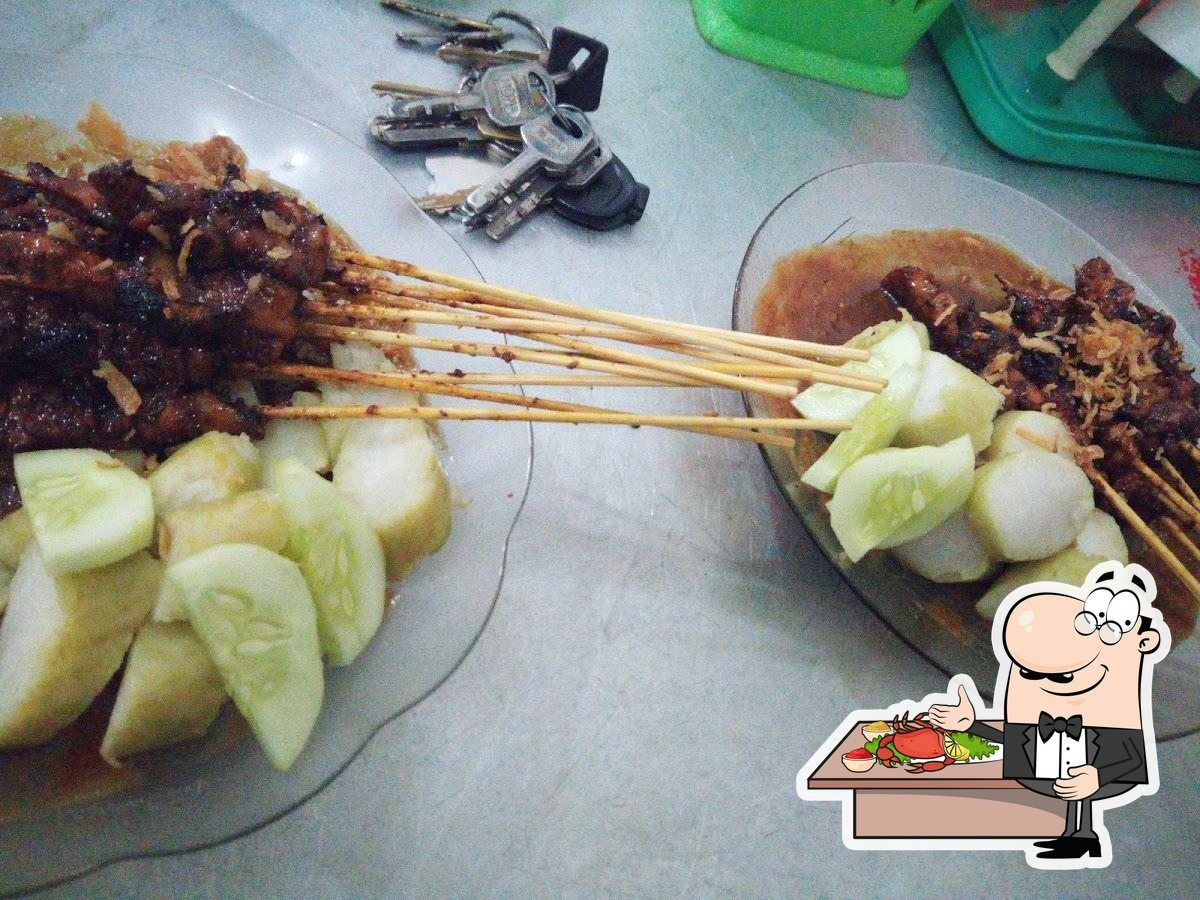sate_madura: (3, 163, 790, 451)
